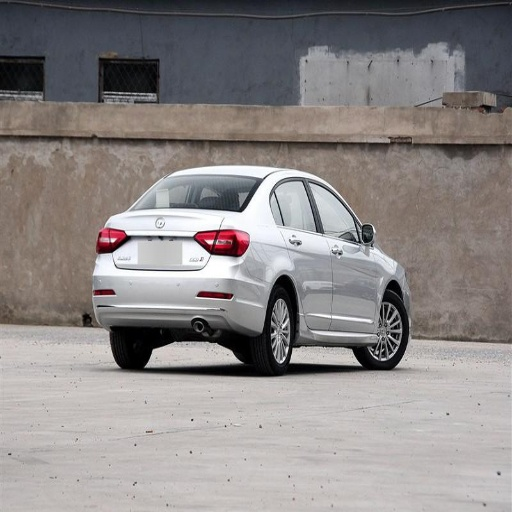back_bumper: (91, 254, 269, 334)
back_right_door: (273, 177, 332, 330)
tailgate: (110, 210, 188, 269)
trunk: (101, 212, 226, 277)
